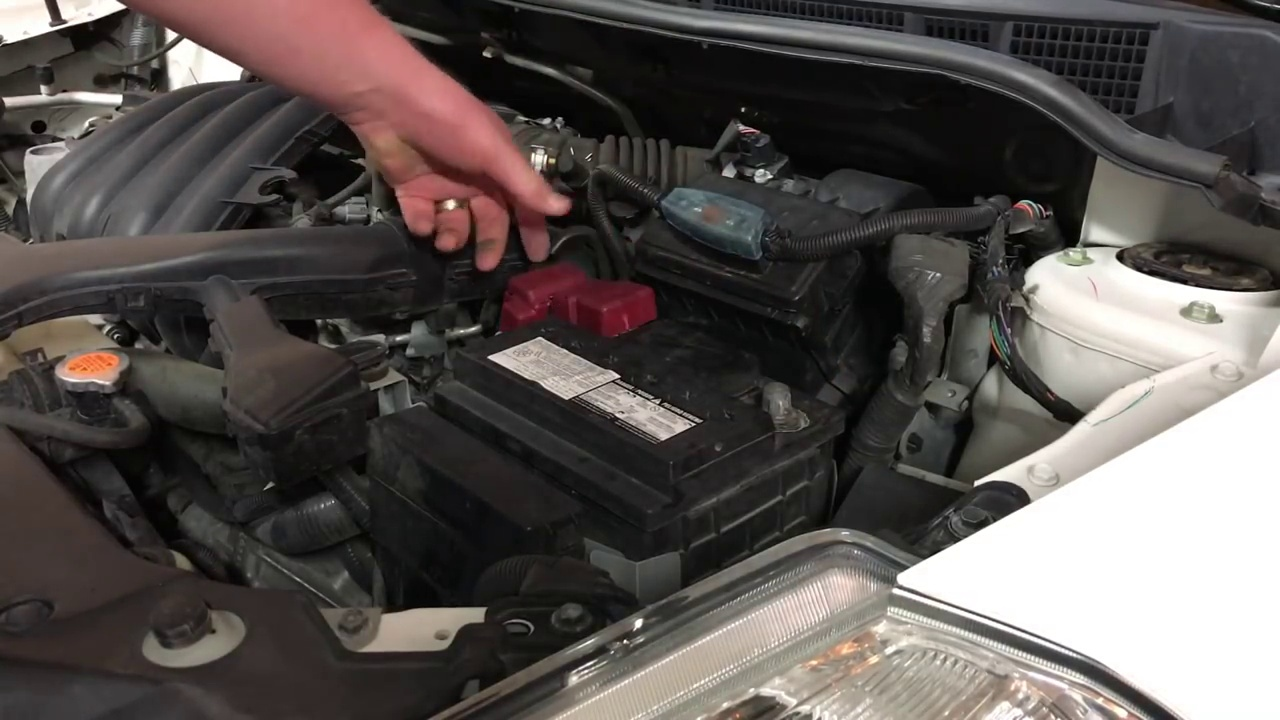battery: (460, 265, 803, 478)
neg_disconnected: (712, 346, 827, 440)
pos_connected: (496, 256, 666, 361)
